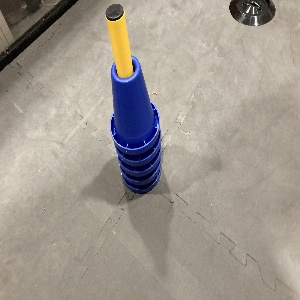Blue_5: (109, 55, 162, 193)
